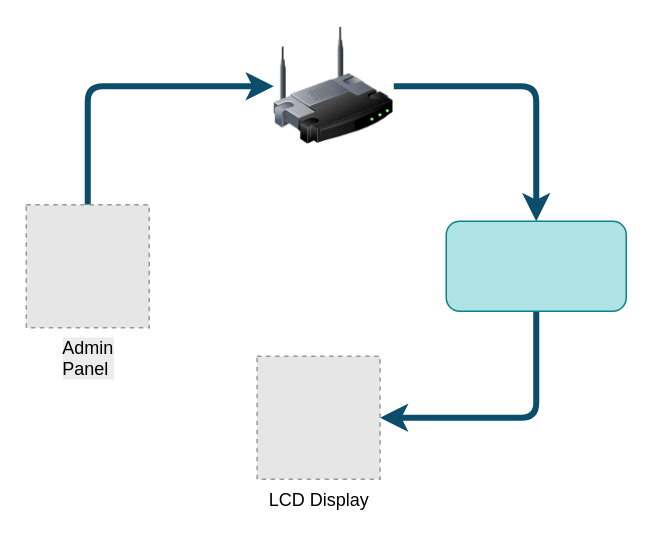
This 653x536 diagram has some shape labels left out. Grey dashed boxes stand in for pictures. The shapes that lost their labels are listed below. From the top down, each one's centre as x and y in pixels, then its label:
At point (333, 86): "WiFi Communication".
At point (535, 265): "ESP32 Microcontroller".
